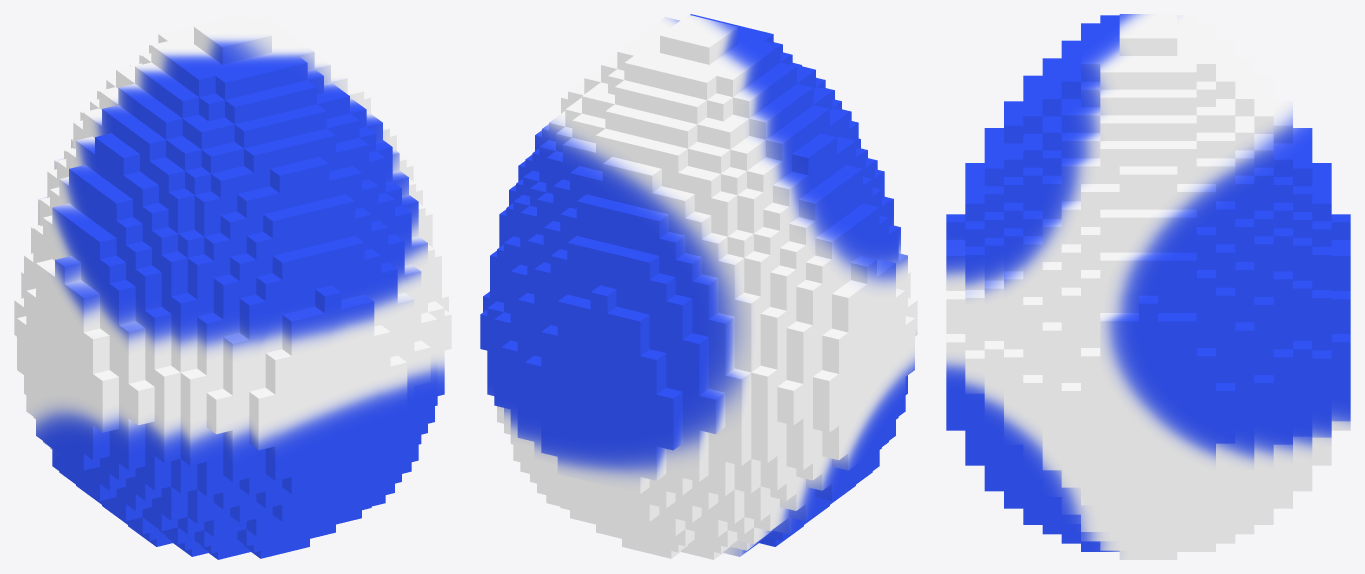
File: egg.glb
3 renders of one model, left to right at view 1: azimuth 30°, elevation 25°; view 2: azimuth 150°, elevation 25°; view 3: azimuth 270°, elevation 25°, orthographic.
Parts seen in each view (by area): view 1: Sphere; view 2: Sphere; view 3: Sphere.
Boxes of the visible parts, left/top/right/bottom form: Sphere: left=14, top=14, right=451, bottom=559; Sphere: left=480, top=14, right=917, bottom=559; Sphere: left=946, top=14, right=1350, bottom=559.
Size of what is drawn, in the model's own units: 7.18 by 9.92 by 7.18.
1 material, 1 textured.
